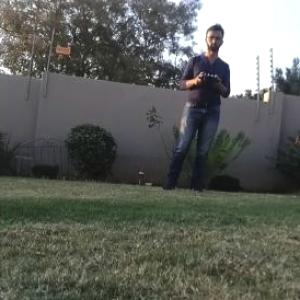follow: (156, 18, 235, 194)
